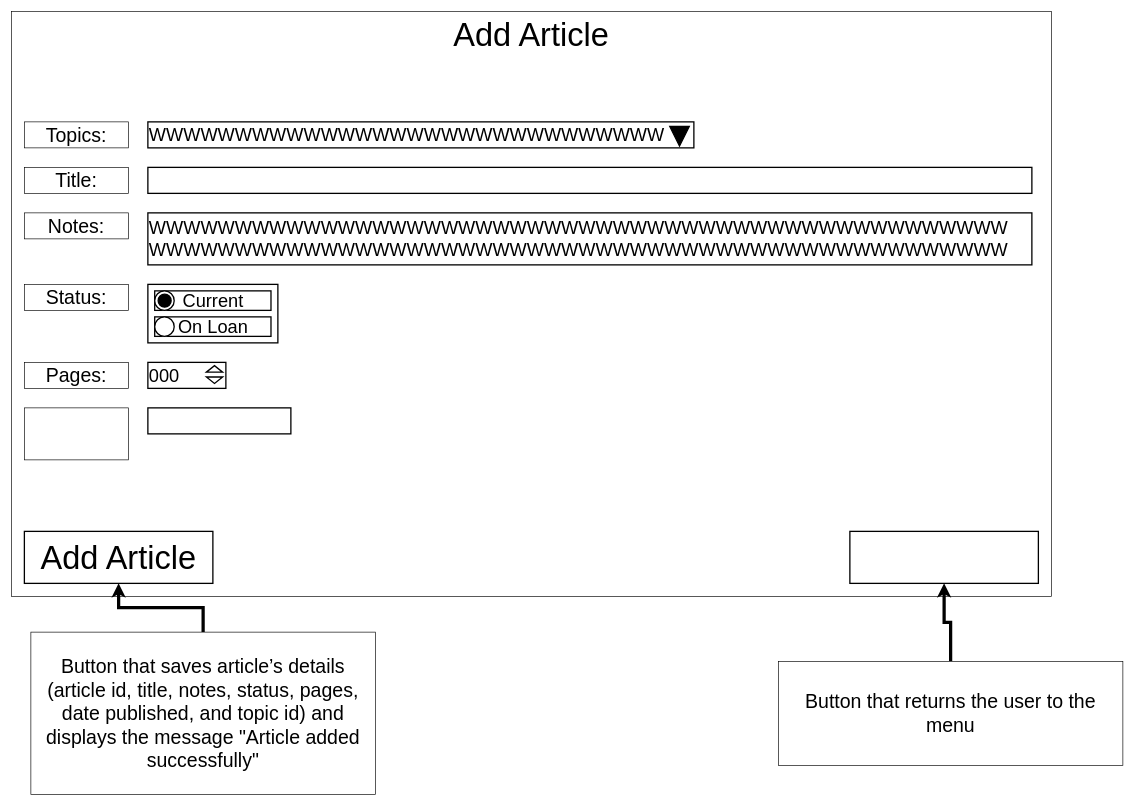
Some shapes in this 1134 by 806 pixel diagram are drawn without their labels. Each missing label, with the centre of its shape:
"Date Published:" goes at [76,433].
"DD/MM/YYYY" goes at [219,420].
"Return" goes at [944,557].
"WWWWWWWWWWWWWWWWWWWWWWWWWWWWWWWWWWWWWWWWWWWWWWWWWW" goes at [589,180].
